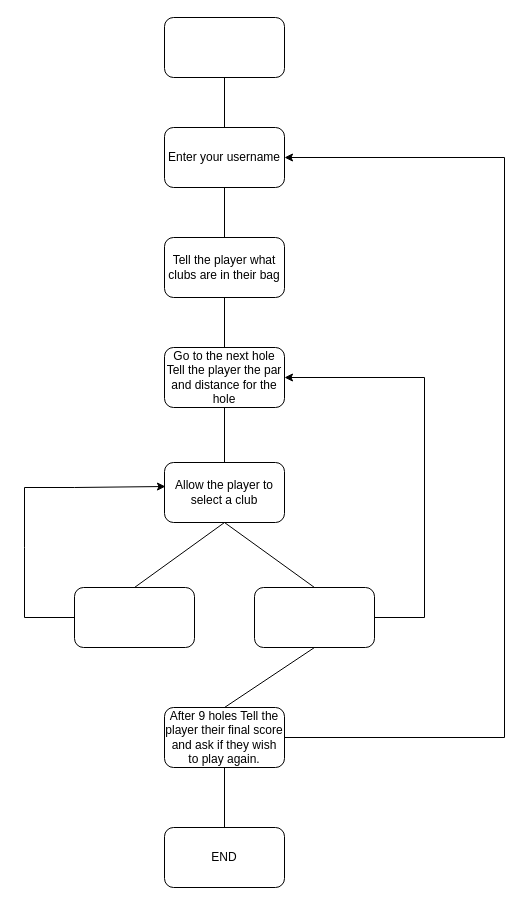
Some shapes in this 530 by 905 pixel diagram are drawn without their labels. The centre of each missing label's shape, as x and y in pixels:
"Player doesn't reach the green" goes at (134,617).
"Player hits the ball onto the green" goes at (314,617).
"START" goes at (224,47).
